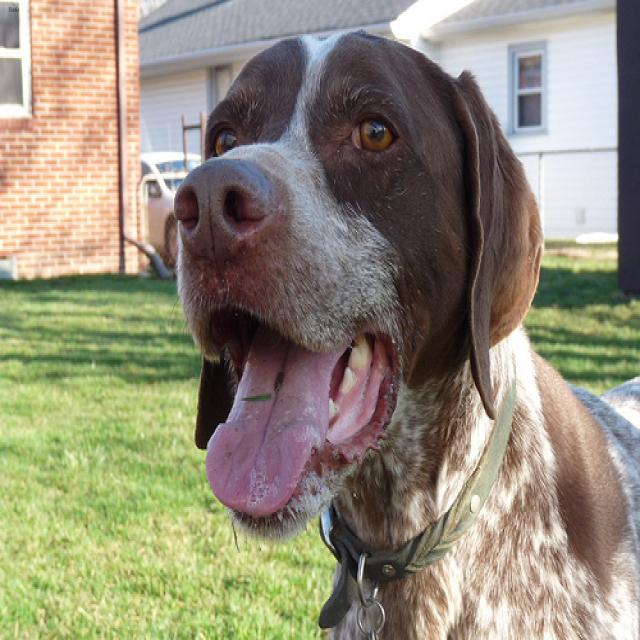dog-german_shorthaired: (170, 22, 637, 637)
